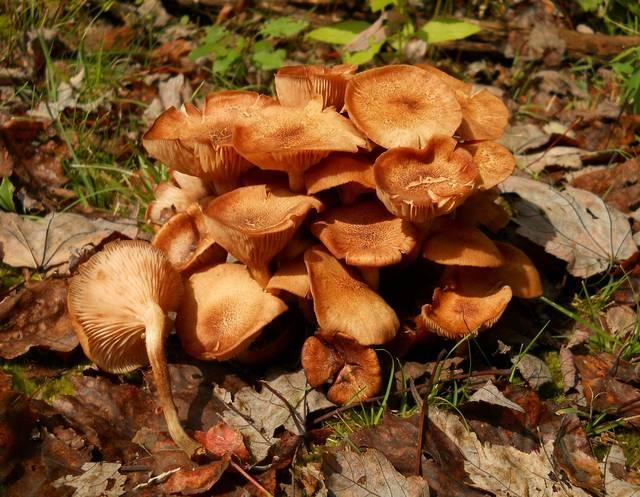edible_mushroom: (66, 59, 544, 458), (65, 237, 207, 461)
